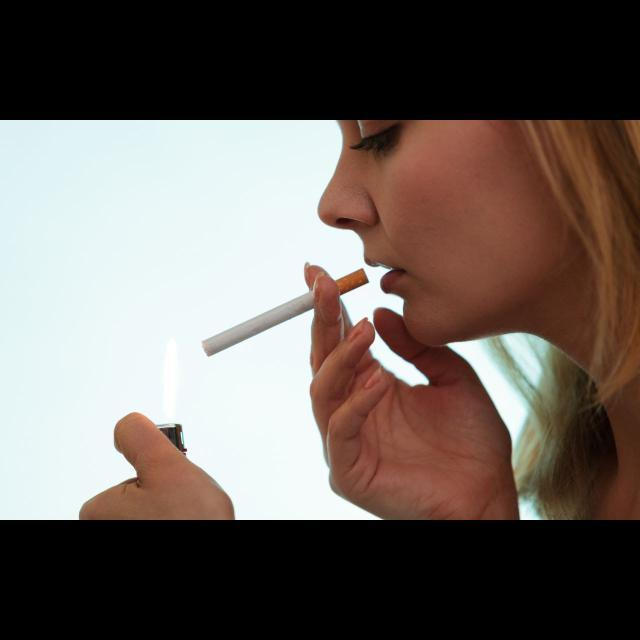rokok: (195, 268, 371, 360)
